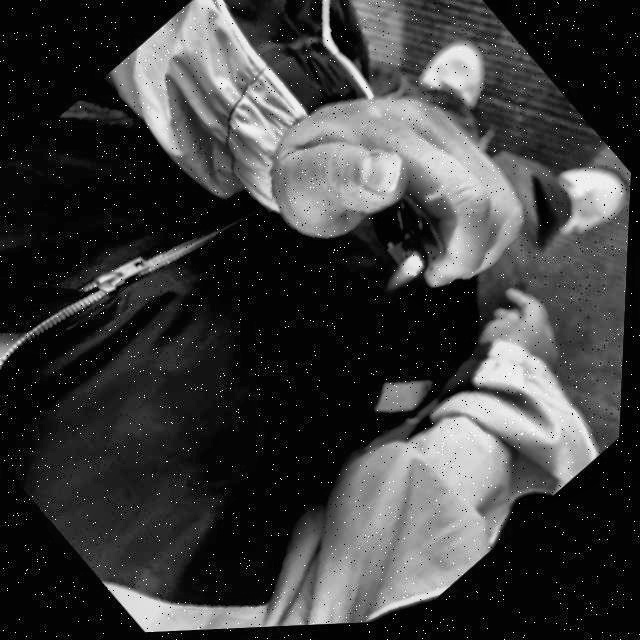Fire: (384, 261, 422, 298)
